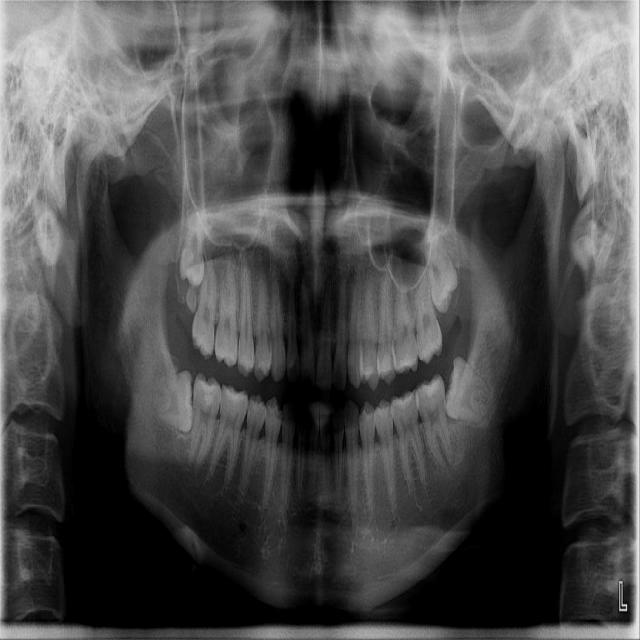Caries: (267, 329, 272, 350)
impacted tooth: (446, 358, 497, 424), (422, 216, 457, 311), (149, 372, 190, 430), (181, 206, 207, 282)
